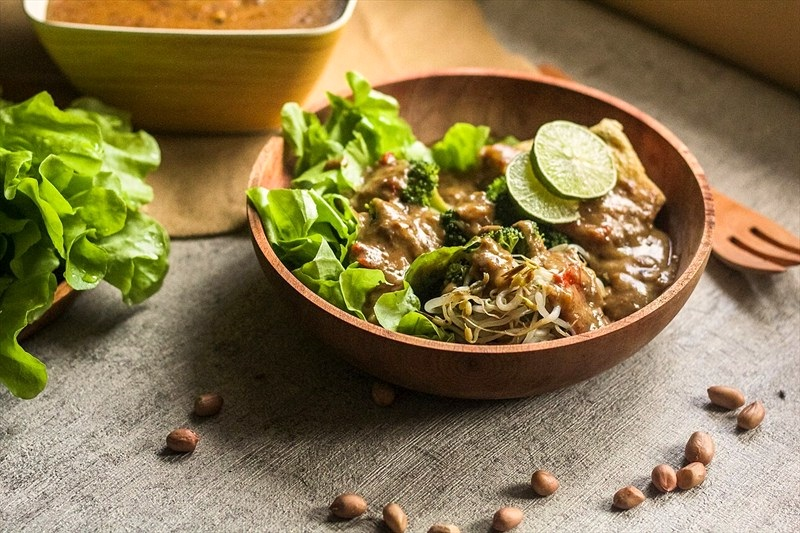Gado-Gado: (27, 79, 703, 361)
